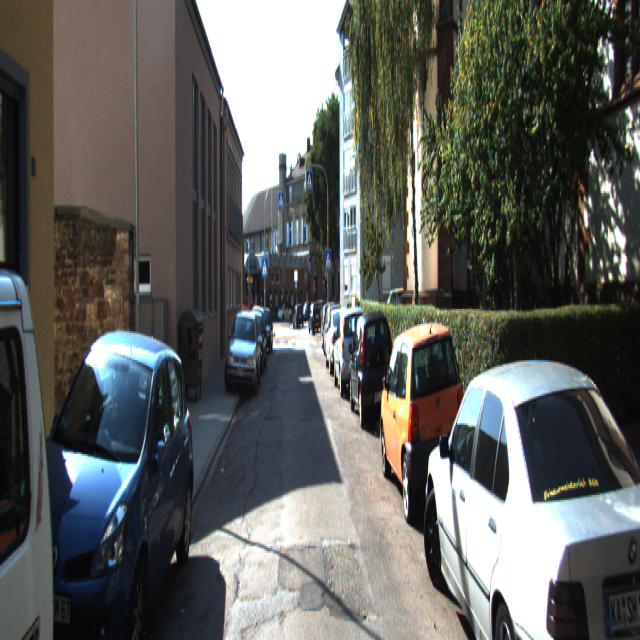Car: (422, 343, 640, 638), (0, 323, 196, 638), (0, 229, 72, 638), (379, 310, 472, 520), (349, 310, 397, 426), (333, 308, 369, 400), (226, 307, 262, 398), (385, 287, 419, 343), (326, 310, 354, 376), (255, 307, 274, 353)
